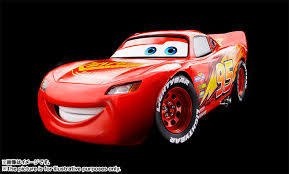car: (27, 25, 272, 152)
